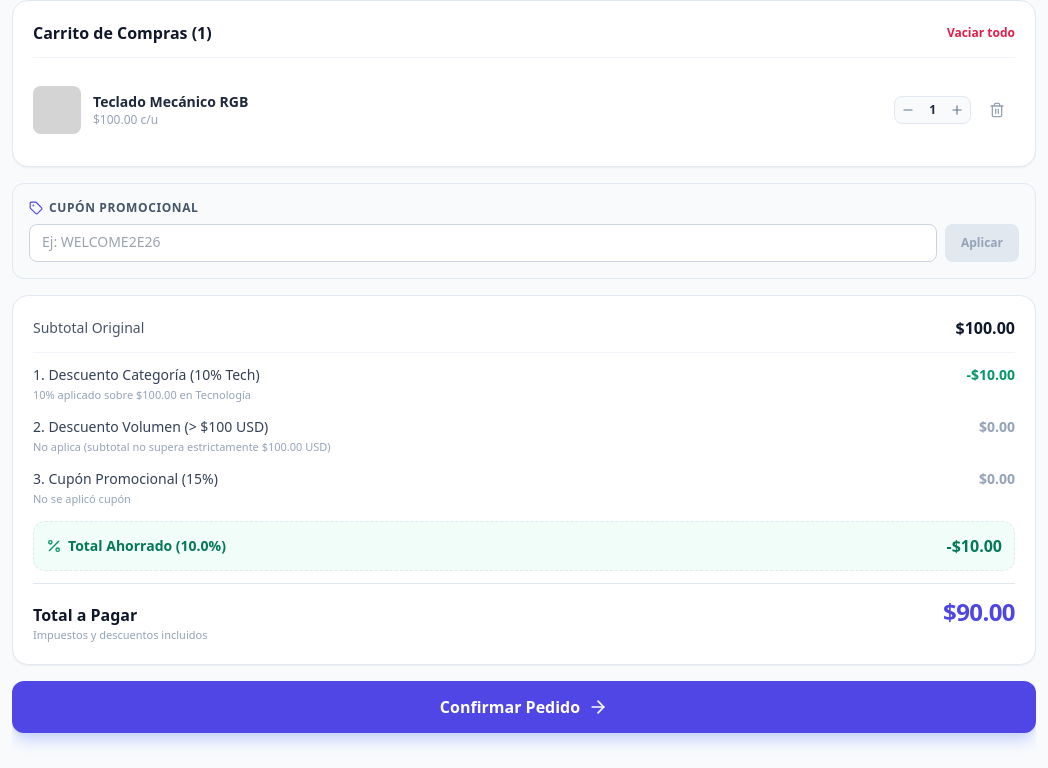
Test case: CartSummary Component › debe permitir aplicar y remover cupones
The image size is (1048, 768).
# Aplicar WELCOME2E26
In the field with test id "coupon-input": (483,243) [29,224,937,262], type "WELCOME2E26"
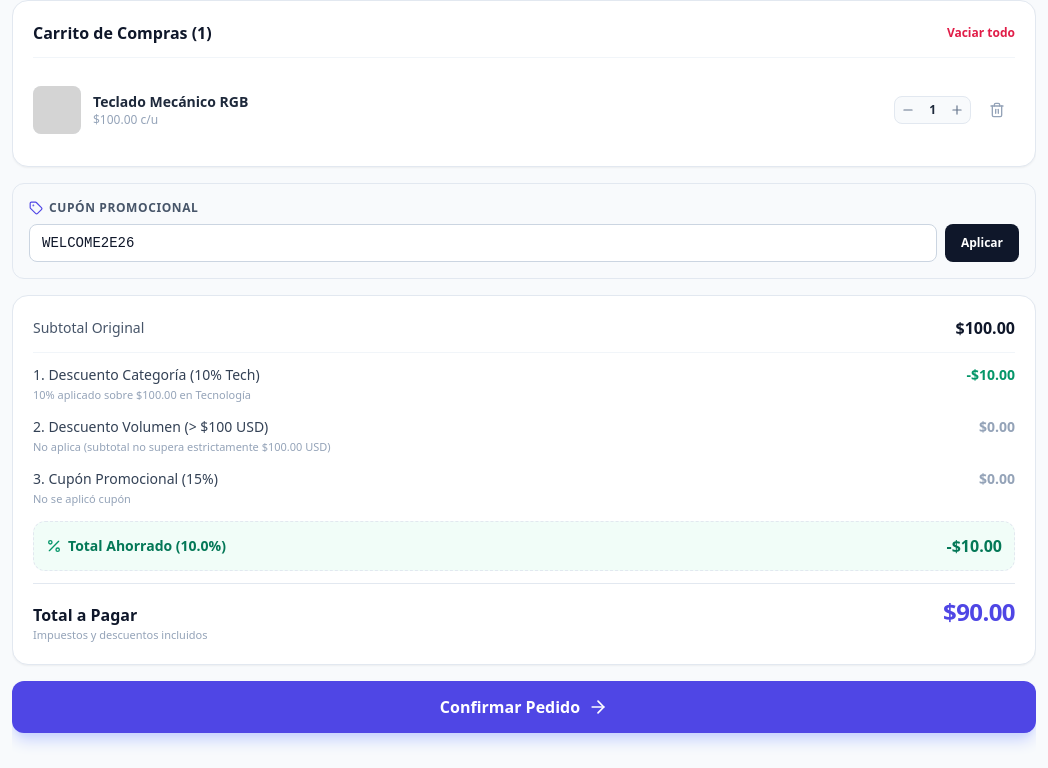
Click the button with test id "apply-coupon-btn": (982,243) [945,224,1019,262]
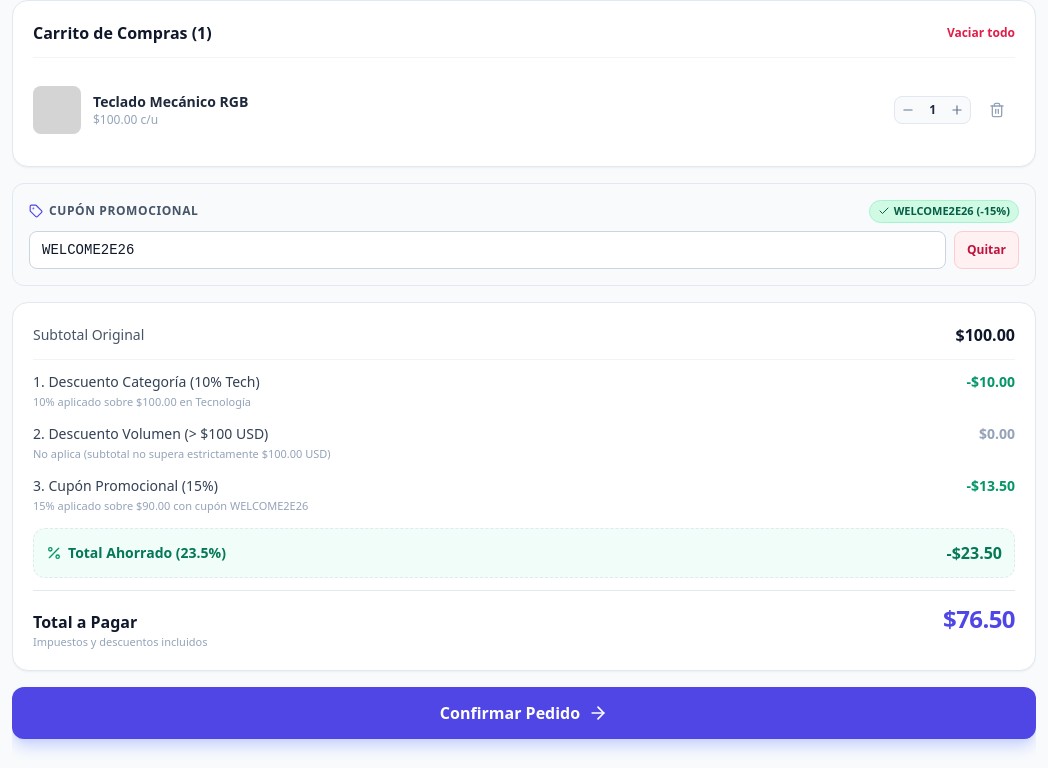
Result: the element with test id "coupon-status-badge" reads "WELCOME2E26 (-15%)" at [894,203,1010,218]
# Remover cupón
Click the button with test id "remove-coupon-btn": (986,250) [954,230,1019,268]
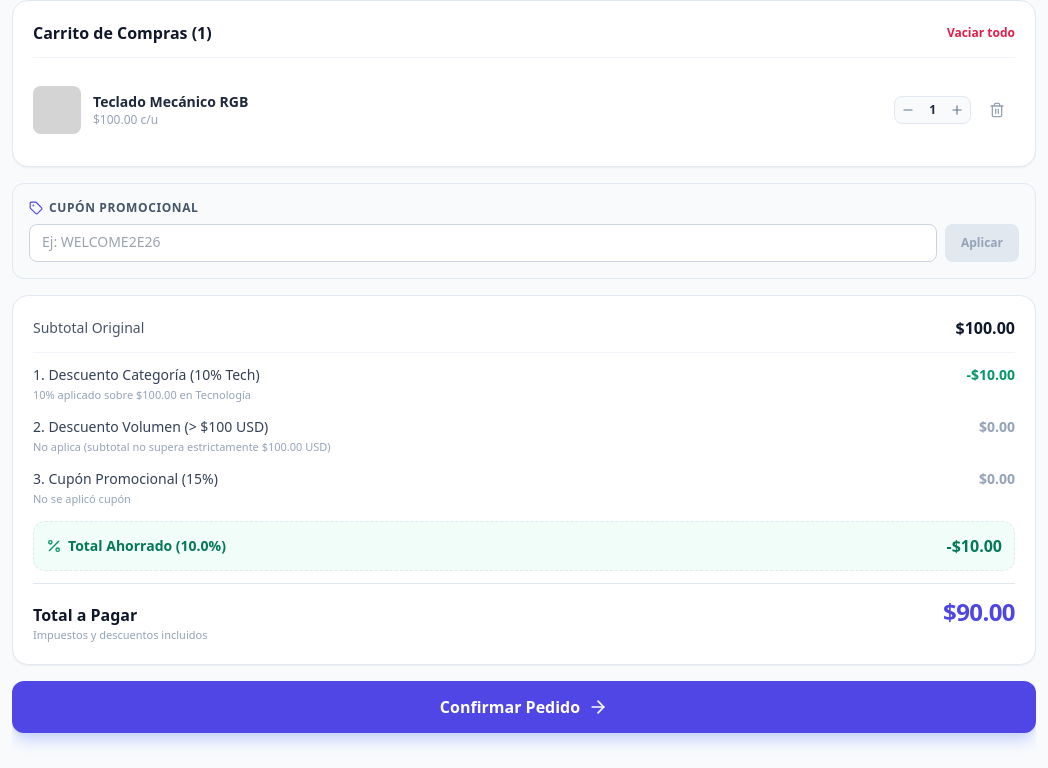
Result: the element with test id "coupon-status-badge" is gone
